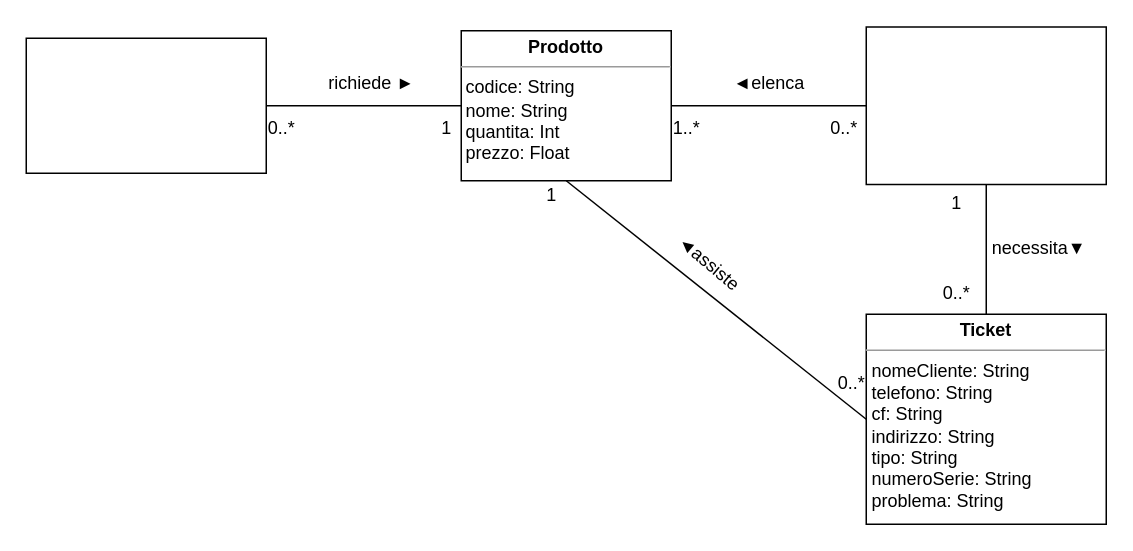
The diagram is 1133 pixels wide and 551 high, and some of its shapes have lost their labels. Each missing label, with the centre of its shape:
"RichiestaAcquisto quantita: Int" belongs at [145,105].
"Scontrino totale: Float importoVersato: Float resto: Float data: Date" belongs at [985,105].
